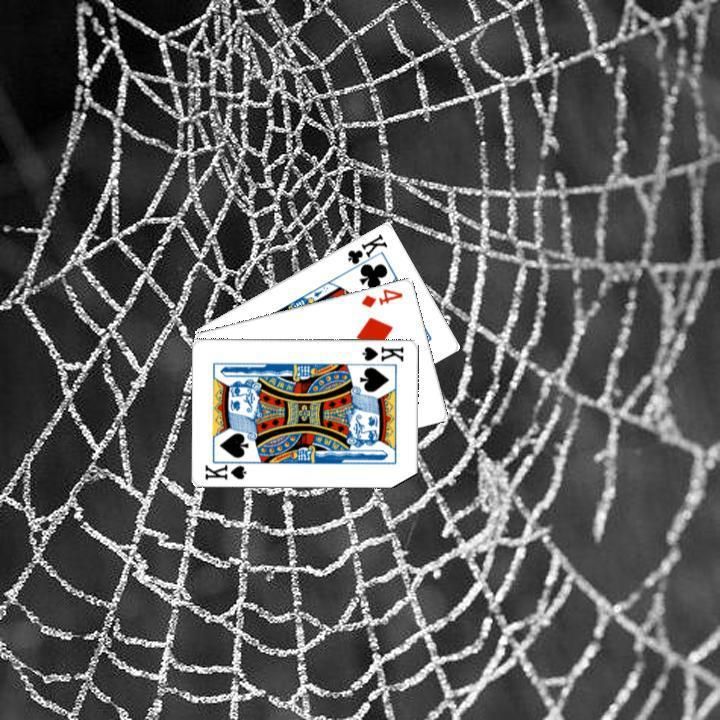4: (357, 284, 405, 309)
K: (343, 229, 390, 273), (201, 455, 253, 481), (358, 342, 406, 363)
